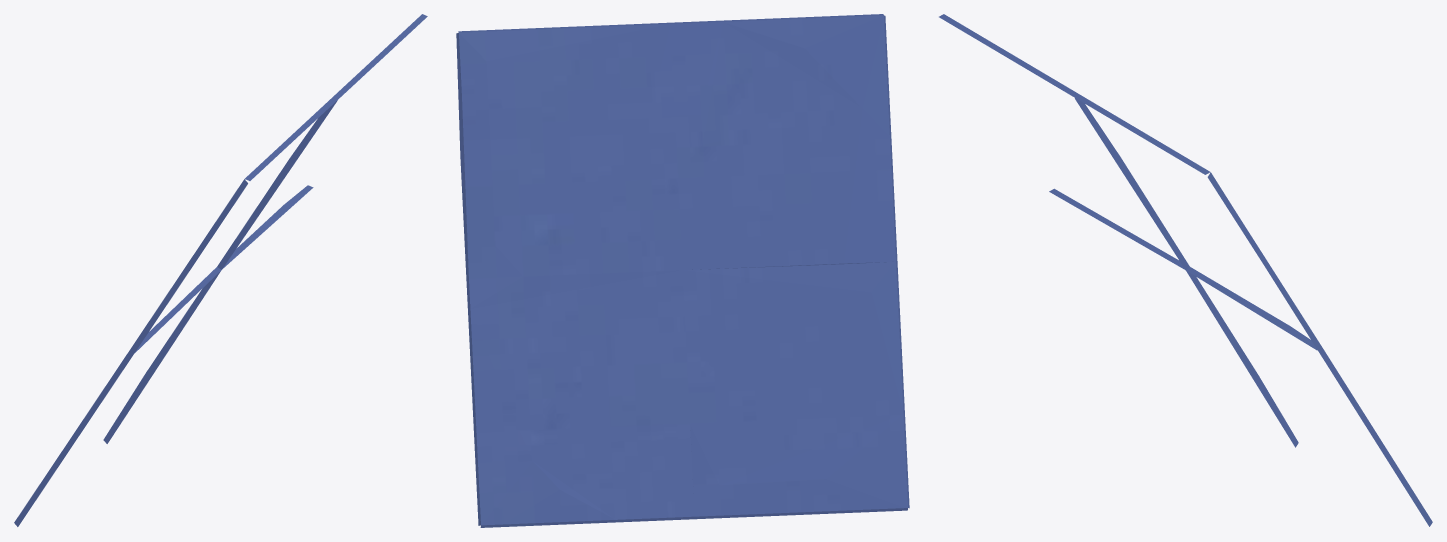
3 views of the same model, side by side, from view 1: azimuth 30°, elevation 25°; view 2: azimuth 150°, elevation 25°; view 3: azimuth 270°, elevation 25° (orthographic). The views are drawn at different scales.
Bounding box in the file's own units: 78816 × 68161 × 72669.
Materials: 1 (1 with a texture image).
